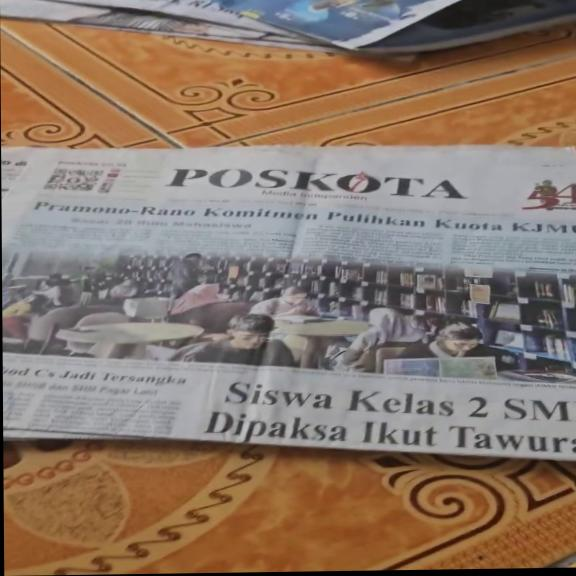Kertas: (3, 141, 571, 441)
